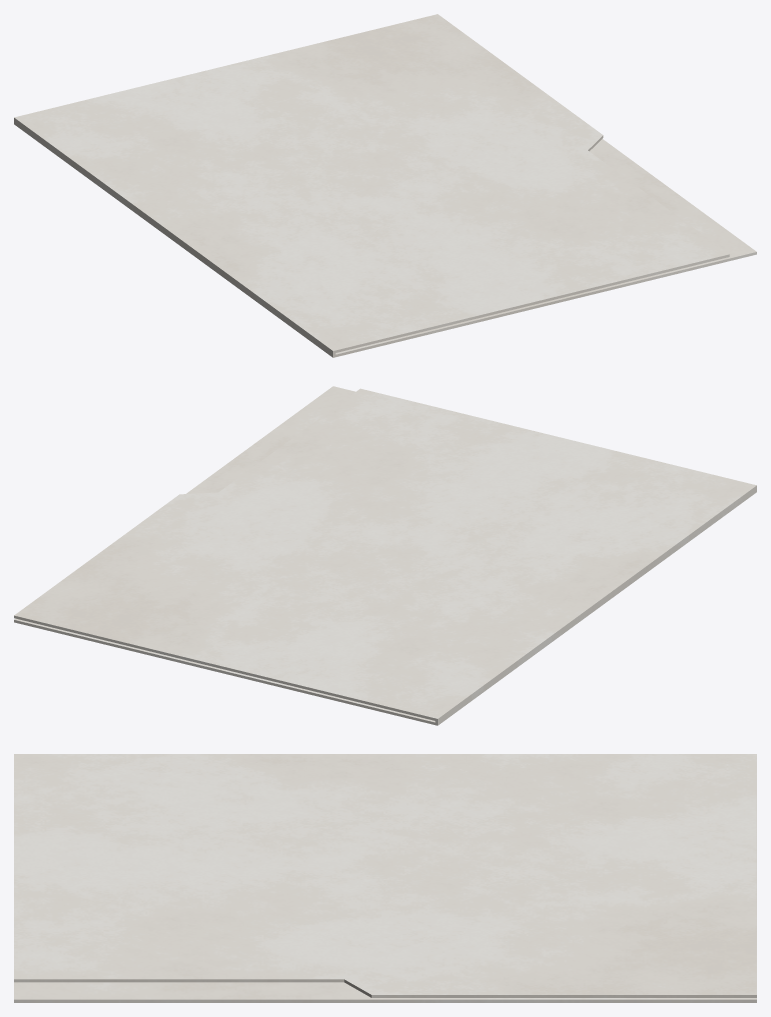
The model's file is FileFolder_closed.fbx.
3 renders of one model, top to bottom at view 1: azimuth 30°, elevation 25°; view 2: azimuth 150°, elevation 25°; view 3: azimuth 270°, elevation 25°, orthographic. The views are drawn at different scales.
Parts seen in each view (by area): view 1: FileFolder_closed; view 2: FileFolder_closed; view 3: FileFolder_closed.
Part boxes in pixels (x1,y1,x2,y2): FileFolder_closed: (14, 14, 756, 357); FileFolder_closed: (14, 386, 756, 725); FileFolder_closed: (14, 754, 756, 1002).
Size of the model in its own units: 153 by 2.37 by 200.
